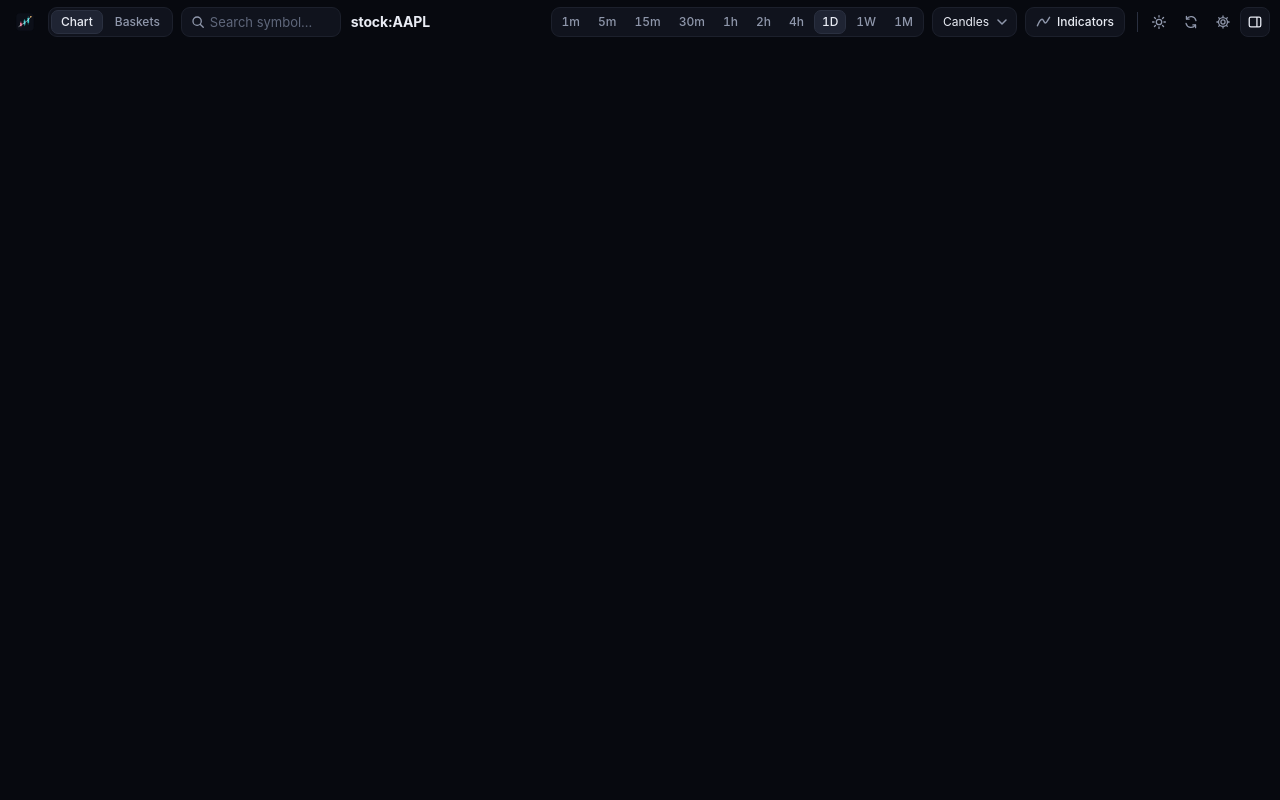
Scenario: TopBar brand › opens About Chartmate from the chart view, and focus returns to it
Click the button named "About Chartmate".
click(25, 22)  # box [10,7,40,37]
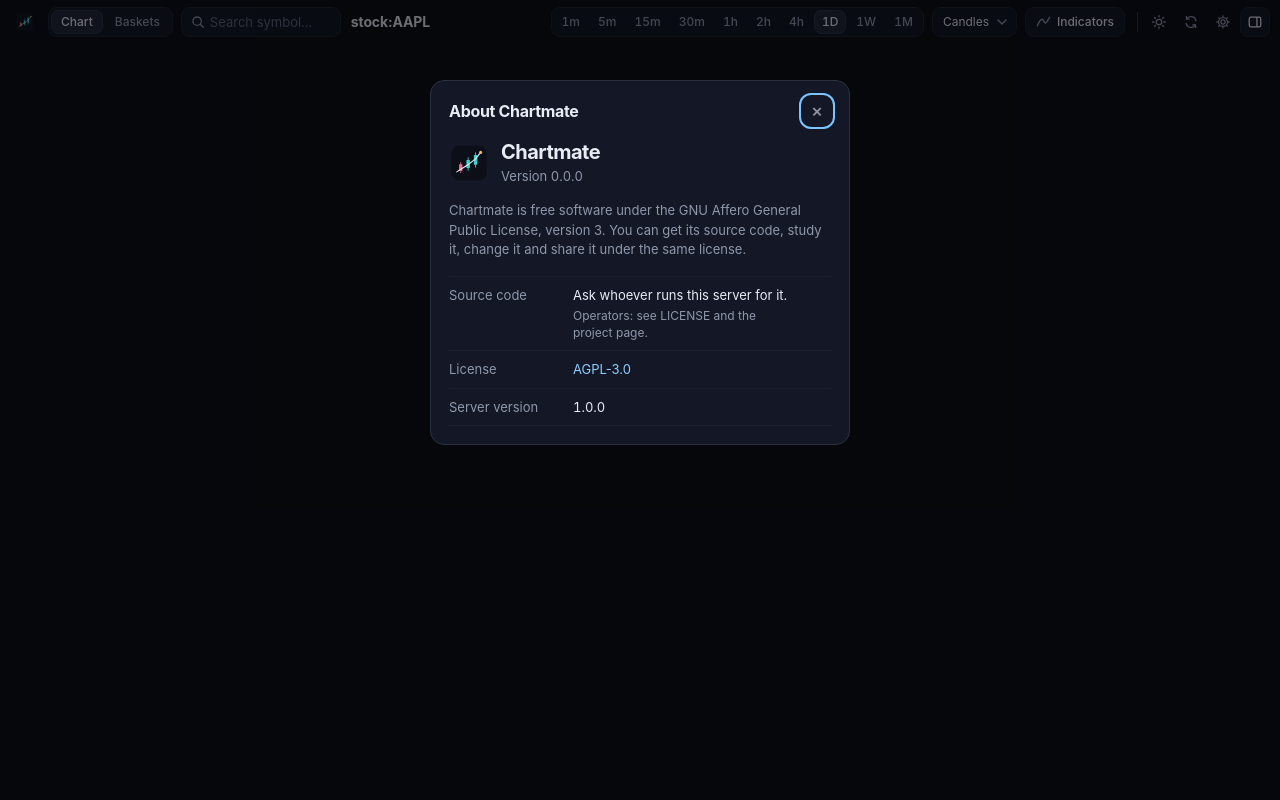
Press Escape
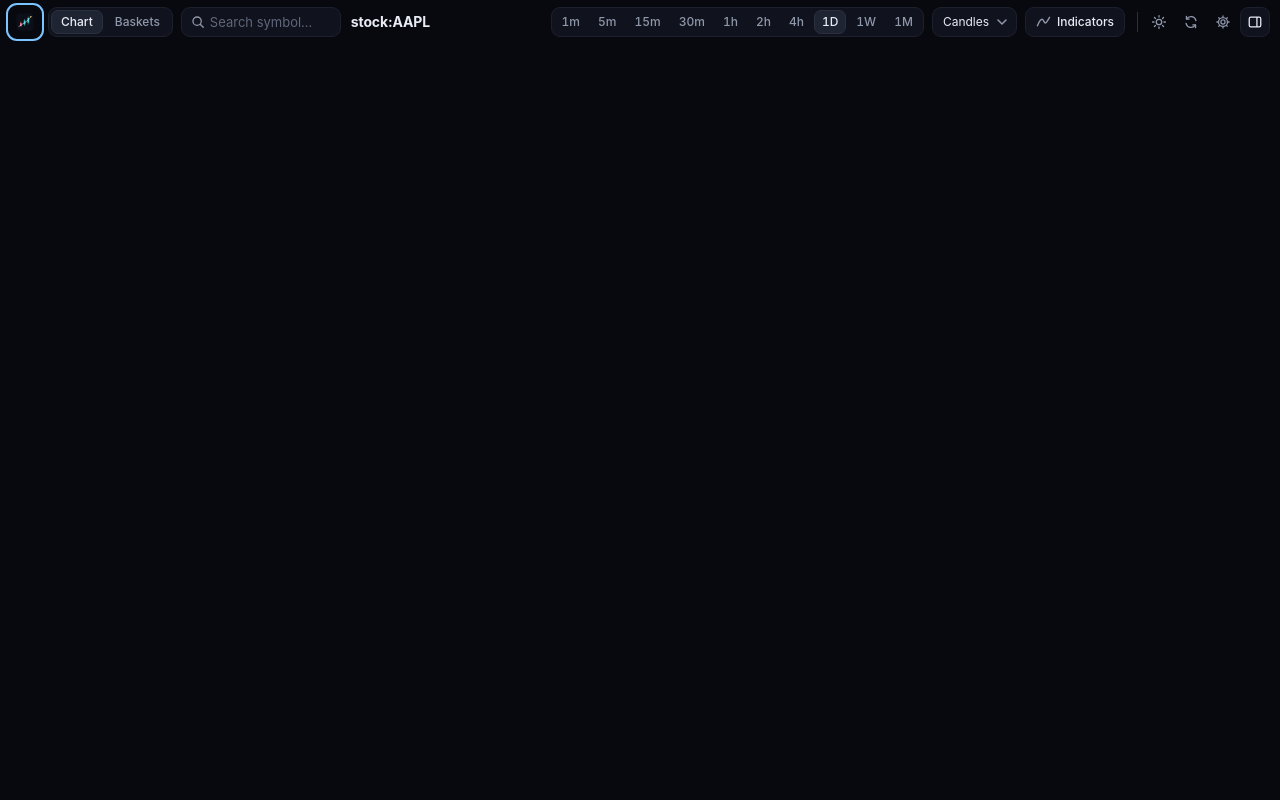
Check: the dialog is gone
